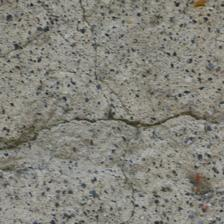Crack: (2, 54, 210, 104)
